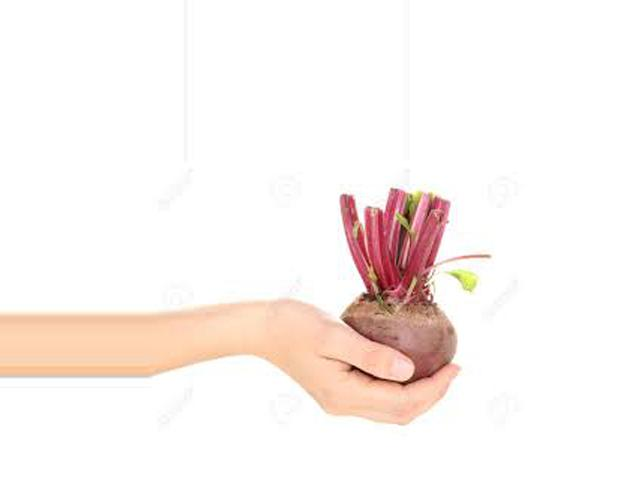beet: (341, 188, 492, 385)
